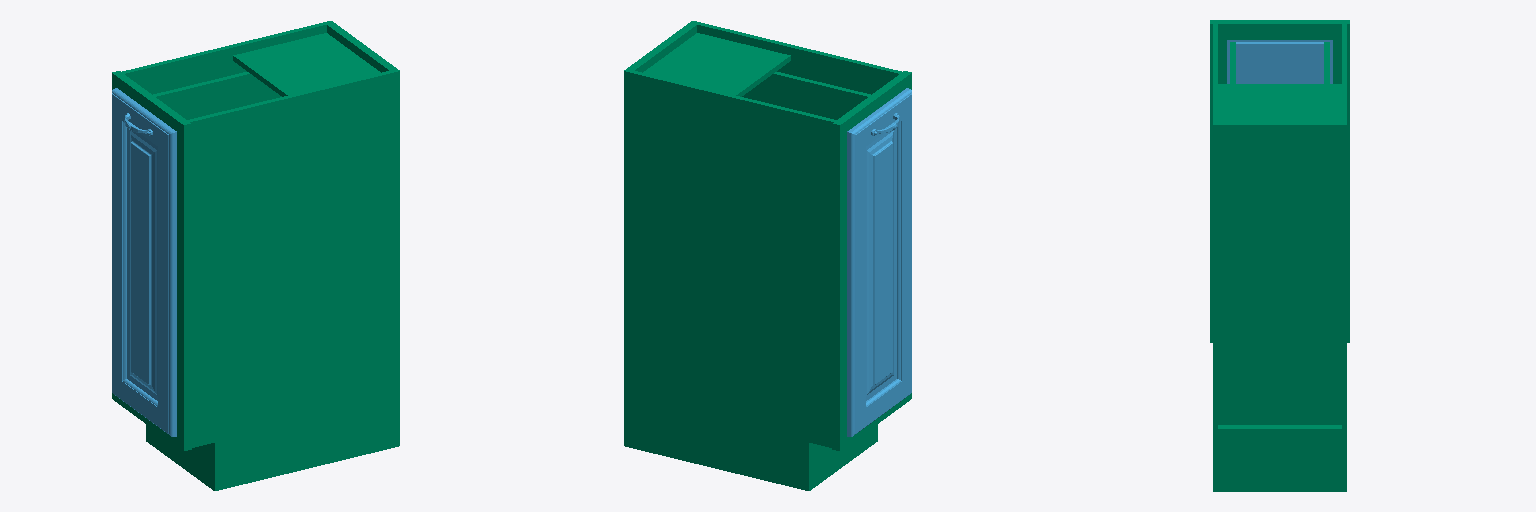
URDF robot description (partnet_33ec57af7f648994da5feafe6f1c8fc):
<?xml version="1.0" ?>
<robot name="partnet_33ec57af7f648994da5feafe6f1c8fc">
	<link name="base"/>
	<link name="link_0">
		<visual name="shelf-4">
			<origin xyz="0 0 0"/>
			<geometry>
				<mesh filename="textured_objs/original-23.obj"/>
			</geometry>
		</visual>
		<visual name="shelf-5">
			<origin xyz="0 0 0"/>
			<geometry>
				<mesh filename="textured_objs/original-34.obj"/>
			</geometry>
		</visual>
		<visual name="shelf-15">
			<origin xyz="0 0 0"/>
			<geometry>
				<mesh filename="textured_objs/original-38.obj"/>
			</geometry>
		</visual>
		<visual name="cabinet_door_surface-7">
			<origin xyz="0 0 0"/>
			<geometry>
				<mesh filename="textured_objs/original-29.obj"/>
			</geometry>
		</visual>
		<visual name="cabinet_door_surface-7">
			<origin xyz="0 0 0"/>
			<geometry>
				<mesh filename="textured_objs/original-46.obj"/>
			</geometry>
		</visual>
		<visual name="cabinet_door_surface-7">
			<origin xyz="0 0 0"/>
			<geometry>
				<mesh filename="textured_objs/original-51.obj"/>
			</geometry>
		</visual>
		<visual name="cabinet_door_surface-7">
			<origin xyz="0 0 0"/>
			<geometry>
				<mesh filename="textured_objs/original-49.obj"/>
			</geometry>
		</visual>
		<visual name="cabinet_door_surface-7">
			<origin xyz="0 0 0"/>
			<geometry>
				<mesh filename="textured_objs/original-43.obj"/>
			</geometry>
		</visual>
		<visual name="cabinet_door_surface-7">
			<origin xyz="0 0 0"/>
			<geometry>
				<mesh filename="textured_objs/original-45.obj"/>
			</geometry>
		</visual>
		<visual name="cabinet_door_surface-7">
			<origin xyz="0 0 0"/>
			<geometry>
				<mesh filename="textured_objs/original-48.obj"/>
			</geometry>
		</visual>
		<visual name="cabinet_door_surface-7">
			<origin xyz="0 0 0"/>
			<geometry>
				<mesh filename="textured_objs/original-44.obj"/>
			</geometry>
		</visual>
		<visual name="cabinet_door_surface-7">
			<origin xyz="0 0 0"/>
			<geometry>
				<mesh filename="textured_objs/original-47.obj"/>
			</geometry>
		</visual>
		<visual name="cabinet_door_surface-7">
			<origin xyz="0 0 0"/>
			<geometry>
				<mesh filename="textured_objs/original-42.obj"/>
			</geometry>
		</visual>
		<visual name="cabinet_door_surface-7">
			<origin xyz="0 0 0"/>
			<geometry>
				<mesh filename="textured_objs/original-52.obj"/>
			</geometry>
		</visual>
		<visual name="handle-8">
			<origin xyz="0 0 0"/>
			<geometry>
				<mesh filename="textured_objs/original-54.obj"/>
			</geometry>
		</visual>
		<visual name="handle-8">
			<origin xyz="0 0 0"/>
			<geometry>
				<mesh filename="textured_objs/original-55.obj"/>
			</geometry>
		</visual>
		<visual name="handle-8">
			<origin xyz="0 0 0"/>
			<geometry>
				<mesh filename="textured_objs/original-56.obj"/>
			</geometry>
		</visual>
		<collision>
			<origin xyz="0 0 0"/>
			<geometry>
				<mesh filename="textured_objs/original-23.obj"/>
			</geometry>
		</collision>
		<collision>
			<origin xyz="0 0 0"/>
			<geometry>
				<mesh filename="textured_objs/original-34.obj"/>
			</geometry>
		</collision>
		<collision>
			<origin xyz="0 0 0"/>
			<geometry>
				<mesh filename="textured_objs/original-38.obj"/>
			</geometry>
		</collision>
		<collision>
			<origin xyz="0 0 0"/>
			<geometry>
				<mesh filename="textured_objs/original-29.obj"/>
			</geometry>
		</collision>
		<collision>
			<origin xyz="0 0 0"/>
			<geometry>
				<mesh filename="textured_objs/original-46.obj"/>
			</geometry>
		</collision>
		<collision>
			<origin xyz="0 0 0"/>
			<geometry>
				<mesh filename="textured_objs/original-51.obj"/>
			</geometry>
		</collision>
		<collision>
			<origin xyz="0 0 0"/>
			<geometry>
				<mesh filename="textured_objs/original-49.obj"/>
			</geometry>
		</collision>
		<collision>
			<origin xyz="0 0 0"/>
			<geometry>
				<mesh filename="textured_objs/original-43.obj"/>
			</geometry>
		</collision>
		<collision>
			<origin xyz="0 0 0"/>
			<geometry>
				<mesh filename="textured_objs/original-45.obj"/>
			</geometry>
		</collision>
		<collision>
			<origin xyz="0 0 0"/>
			<geometry>
				<mesh filename="textured_objs/original-48.obj"/>
			</geometry>
		</collision>
		<collision>
			<origin xyz="0 0 0"/>
			<geometry>
				<mesh filename="textured_objs/original-44.obj"/>
			</geometry>
		</collision>
		<collision>
			<origin xyz="0 0 0"/>
			<geometry>
				<mesh filename="textured_objs/original-47.obj"/>
			</geometry>
		</collision>
		<collision>
			<origin xyz="0 0 0"/>
			<geometry>
				<mesh filename="textured_objs/original-42.obj"/>
			</geometry>
		</collision>
		<collision>
			<origin xyz="0 0 0"/>
			<geometry>
				<mesh filename="textured_objs/original-52.obj"/>
			</geometry>
		</collision>
		<collision>
			<origin xyz="0 0 0"/>
			<geometry>
				<mesh filename="textured_objs/original-54.obj"/>
			</geometry>
		</collision>
		<collision>
			<origin xyz="0 0 0"/>
			<geometry>
				<mesh filename="textured_objs/original-55.obj"/>
			</geometry>
		</collision>
		<collision>
			<origin xyz="0 0 0"/>
			<geometry>
				<mesh filename="textured_objs/original-56.obj"/>
			</geometry>
		</collision>
	</link>
	<joint name="joint_0" type="prismatic">
		<origin xyz="0 0 0"/>
		<axis xyz="0 0 1"/>
		<child link="link_0"/>
		<parent link="link_1"/>
		<limit lower="0" upper="0.9039999999999999"/>
	</joint>
	<link name="link_1">
		<visual name="vertical_side_panel-9">
			<origin xyz="0 0 0"/>
			<geometry>
				<mesh filename="textured_objs/original-11.obj"/>
			</geometry>
		</visual>
		<visual name="vertical_side_panel-9">
			<origin xyz="0 0 0"/>
			<geometry>
				<mesh filename="textured_objs/original-10.obj"/>
			</geometry>
		</visual>
		<visual name="vertical_side_panel-10">
			<origin xyz="0 0 0"/>
			<geometry>
				<mesh filename="textured_objs/original-15.obj"/>
			</geometry>
		</visual>
		<visual name="vertical_side_panel-10">
			<origin xyz="0 0 0"/>
			<geometry>
				<mesh filename="textured_objs/original-14.obj"/>
			</geometry>
		</visual>
		<visual name="back_panel-11">
			<origin xyz="0 0 0"/>
			<geometry>
				<mesh filename="textured_objs/original-5.obj"/>
			</geometry>
		</visual>
		<visual name="back_panel-11">
			<origin xyz="0 0 0"/>
			<geometry>
				<mesh filename="textured_objs/original-57.obj"/>
			</geometry>
		</visual>
		<visual name="bottom_panel-12">
			<origin xyz="0 0 0"/>
			<geometry>
				<mesh filename="textured_objs/original-2.obj"/>
			</geometry>
		</visual>
		<visual name="top_panel-13">
			<origin xyz="0 0 0"/>
			<geometry>
				<mesh filename="textured_objs/original-19.obj"/>
			</geometry>
		</visual>
		<visual name="frame_horizontal_bar-27">
			<origin xyz="0 0 0"/>
			<geometry>
				<mesh filename="textured_objs/original-8.obj"/>
			</geometry>
		</visual>
		<visual name="frame_horizontal_bar-28">
			<origin xyz="0 0 0"/>
			<geometry>
				<mesh filename="textured_objs/original-6.obj"/>
			</geometry>
		</visual>
		<visual name="frame_horizontal_bar-29">
			<origin xyz="0 0 0"/>
			<geometry>
				<mesh filename="textured_objs/original-39.obj"/>
			</geometry>
		</visual>
		<visual name="frame_horizontal_bar-30">
			<origin xyz="0 0 0"/>
			<geometry>
				<mesh filename="textured_objs/original-33.obj"/>
			</geometry>
		</visual>
		<visual name="frame_horizontal_bar-31">
			<origin xyz="0 0 0"/>
			<geometry>
				<mesh filename="textured_objs/original-28.obj"/>
			</geometry>
		</visual>
		<visual name="frame_horizontal_bar-32">
			<origin xyz="0 0 0"/>
			<geometry>
				<mesh filename="textured_objs/original-32.obj"/>
			</geometry>
		</visual>
		<visual name="frame_horizontal_bar-33">
			<origin xyz="0 0 0"/>
			<geometry>
				<mesh filename="textured_objs/original-36.obj"/>
			</geometry>
		</visual>
		<visual name="frame_horizontal_bar-34">
			<origin xyz="0 0 0"/>
			<geometry>
				<mesh filename="textured_objs/original-37.obj"/>
			</geometry>
		</visual>
		<visual name="frame_horizontal_bar-35">
			<origin xyz="0 0 0"/>
			<geometry>
				<mesh filename="textured_objs/original-40.obj"/>
			</geometry>
		</visual>
		<visual name="frame_horizontal_bar-36">
			<origin xyz="0 0 0"/>
			<geometry>
				<mesh filename="textured_objs/original-22.obj"/>
			</geometry>
		</visual>
		<visual name="frame_vertical_bar-37">
			<origin xyz="0 0 0"/>
			<geometry>
				<mesh filename="textured_objs/original-3.obj"/>
			</geometry>
		</visual>
		<visual name="frame_vertical_bar-38">
			<origin xyz="0 0 0"/>
			<geometry>
				<mesh filename="textured_objs/original-7.obj"/>
			</geometry>
		</visual>
		<visual name="frame_vertical_bar-39">
			<origin xyz="0 0 0"/>
			<geometry>
				<mesh filename="textured_objs/original-24.obj"/>
			</geometry>
		</visual>
		<visual name="frame_vertical_bar-40">
			<origin xyz="0 0 0"/>
			<geometry>
				<mesh filename="textured_objs/original-27.obj"/>
			</geometry>
		</visual>
		<visual name="frame_vertical_bar-41">
			<origin xyz="0 0 0"/>
			<geometry>
				<mesh filename="textured_objs/original-26.obj"/>
			</geometry>
		</visual>
		<visual name="frame_vertical_bar-42">
			<origin xyz="0 0 0"/>
			<geometry>
				<mesh filename="textured_objs/original-25.obj"/>
			</geometry>
		</visual>
		<visual name="frame_horizontal_bar-43">
			<origin xyz="0 0 0"/>
			<geometry>
				<mesh filename="textured_objs/original-4.obj"/>
			</geometry>
		</visual>
		<visual name="back_panel-44">
			<origin xyz="0 0 0"/>
			<geometry>
				<mesh filename="textured_objs/original-30.obj"/>
			</geometry>
		</visual>
		<visual name="base_side_panel-17">
			<origin xyz="0 0 0"/>
			<geometry>
				<mesh filename="textured_objs/original-17.obj"/>
			</geometry>
		</visual>
		<visual name="base_side_panel-18">
			<origin xyz="0 0 0"/>
			<geometry>
				<mesh filename="textured_objs/original-12.obj"/>
			</geometry>
		</visual>
		<visual name="base_side_panel-19">
			<origin xyz="0 0 0"/>
			<geometry>
				<mesh filename="textured_objs/original-18.obj"/>
			</geometry>
		</visual>
		<visual name="base_side_panel-20">
			<origin xyz="0 0 0"/>
			<geometry>
				<mesh filename="textured_objs/original-16.obj"/>
			</geometry>
		</visual>
		<collision>
			<origin xyz="0 0 0"/>
			<geometry>
				<mesh filename="textured_objs/original-11.obj"/>
			</geometry>
		</collision>
		<collision>
			<origin xyz="0 0 0"/>
			<geometry>
				<mesh filename="textured_objs/original-10.obj"/>
			</geometry>
		</collision>
		<collision>
			<origin xyz="0 0 0"/>
			<geometry>
				<mesh filename="textured_objs/original-15.obj"/>
			</geometry>
		</collision>
		<collision>
			<origin xyz="0 0 0"/>
			<geometry>
				<mesh filename="textured_objs/original-14.obj"/>
			</geometry>
		</collision>
		<collision>
			<origin xyz="0 0 0"/>
			<geometry>
				<mesh filename="textured_objs/original-5.obj"/>
			</geometry>
		</collision>
		<collision>
			<origin xyz="0 0 0"/>
			<geometry>
				<mesh filename="textured_objs/original-57.obj"/>
			</geometry>
		</collision>
		<collision>
			<origin xyz="0 0 0"/>
			<geometry>
				<mesh filename="textured_objs/original-2.obj"/>
			</geometry>
		</collision>
		<collision>
			<origin xyz="0 0 0"/>
			<geometry>
				<mesh filename="textured_objs/original-19.obj"/>
			</geometry>
		</collision>
		<collision>
			<origin xyz="0 0 0"/>
			<geometry>
				<mesh filename="textured_objs/original-8.obj"/>
			</geometry>
		</collision>
		<collision>
			<origin xyz="0 0 0"/>
			<geometry>
				<mesh filename="textured_objs/original-6.obj"/>
			</geometry>
		</collision>
		<collision>
			<origin xyz="0 0 0"/>
			<geometry>
				<mesh filename="textured_objs/original-39.obj"/>
			</geometry>
		</collision>
		<collision>
			<origin xyz="0 0 0"/>
			<geometry>
				<mesh filename="textured_objs/original-33.obj"/>
			</geometry>
		</collision>
		<collision>
			<origin xyz="0 0 0"/>
			<geometry>
				<mesh filename="textured_objs/original-28.obj"/>
			</geometry>
		</collision>
		<collision>
			<origin xyz="0 0 0"/>
			<geometry>
				<mesh filename="textured_objs/original-32.obj"/>
			</geometry>
		</collision>
		<collision>
			<origin xyz="0 0 0"/>
			<geometry>
				<mesh filename="textured_objs/original-36.obj"/>
			</geometry>
		</collision>
		<collision>
			<origin xyz="0 0 0"/>
			<geometry>
				<mesh filename="textured_objs/original-37.obj"/>
			</geometry>
		</collision>
		<collision>
			<origin xyz="0 0 0"/>
			<geometry>
				<mesh filename="textured_objs/original-40.obj"/>
			</geometry>
		</collision>
		<collision>
			<origin xyz="0 0 0"/>
			<geometry>
				<mesh filename="textured_objs/original-22.obj"/>
			</geometry>
		</collision>
		<collision>
			<origin xyz="0 0 0"/>
			<geometry>
				<mesh filename="textured_objs/original-3.obj"/>
			</geometry>
		</collision>
		<collision>
			<origin xyz="0 0 0"/>
			<geometry>
				<mesh filename="textured_objs/original-7.obj"/>
			</geometry>
		</collision>
		<collision>
			<origin xyz="0 0 0"/>
			<geometry>
				<mesh filename="textured_objs/original-24.obj"/>
			</geometry>
		</collision>
		<collision>
			<origin xyz="0 0 0"/>
			<geometry>
				<mesh filename="textured_objs/original-27.obj"/>
			</geometry>
		</collision>
		<collision>
			<origin xyz="0 0 0"/>
			<geometry>
				<mesh filename="textured_objs/original-26.obj"/>
			</geometry>
		</collision>
		<collision>
			<origin xyz="0 0 0"/>
			<geometry>
				<mesh filename="textured_objs/original-25.obj"/>
			</geometry>
		</collision>
		<collision>
			<origin xyz="0 0 0"/>
			<geometry>
				<mesh filename="textured_objs/original-4.obj"/>
			</geometry>
		</collision>
		<collision>
			<origin xyz="0 0 0"/>
			<geometry>
				<mesh filename="textured_objs/original-30.obj"/>
			</geometry>
		</collision>
		<collision>
			<origin xyz="0 0 0"/>
			<geometry>
				<mesh filename="textured_objs/original-17.obj"/>
			</geometry>
		</collision>
		<collision>
			<origin xyz="0 0 0"/>
			<geometry>
				<mesh filename="textured_objs/original-12.obj"/>
			</geometry>
		</collision>
		<collision>
			<origin xyz="0 0 0"/>
			<geometry>
				<mesh filename="textured_objs/original-18.obj"/>
			</geometry>
		</collision>
		<collision>
			<origin xyz="0 0 0"/>
			<geometry>
				<mesh filename="textured_objs/original-16.obj"/>
			</geometry>
		</collision>
	</link>
	<joint name="joint_1" type="fixed">
		<origin rpy="1.570796326794897 0 -1.570796326794897" xyz="0 0 0"/>
		<child link="link_1"/>
		<parent link="base"/>
	</joint>
</robot>

--- Facts derived from the render (not from the file) ---
The picture shows the robot from 3 angles, left to right: view 1: azimuth 30°, elevation 25°; view 2: azimuth 150°, elevation 25°; view 3: azimuth 270°, elevation 25°; orthographic projection.
Model partnet_33ec57af7f648994da5feafe6f1c8fc with 3 links and 2 joints (1 prismatic, 1 fixed), rooted at base, posed every joint at zero.
Links seen in each view (by area): view 1: link_1, link_0; view 2: link_1, link_0; view 3: link_1, link_0.
Link boxes in pixels (x1,y1,x2,y2): link_1: [112, 21, 399, 490]; link_0: [112, 88, 176, 436]; link_1: [624, 21, 911, 490]; link_0: [847, 88, 911, 436]; link_1: [1210, 20, 1349, 491]; link_0: [1227, 40, 1332, 83].
Bounding box of the posed robot: 1.13 × 0.5912 × 1.7 m (x, y, z).
47 mesh visuals loaded from 47 distinct referenced files (47 OBJ).
